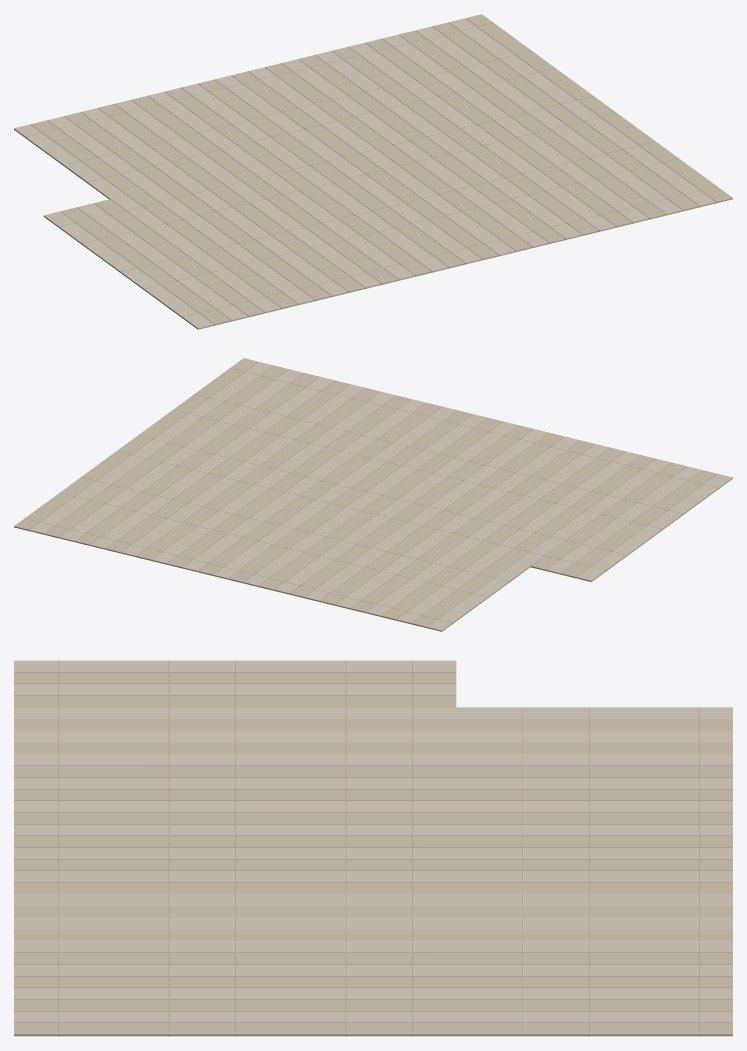
Rendered from home_floor_boards_s4__birch.glb.
The picture shows the model from 3 angles, top to bottom: view 1: azimuth 30°, elevation 25°; view 2: azimuth 150°, elevation 25°; view 3: azimuth 270°, elevation 25°; orthographic projection. The views are drawn at different scales.
Size of the model in its own units: 16 by 0.042 by 13.
